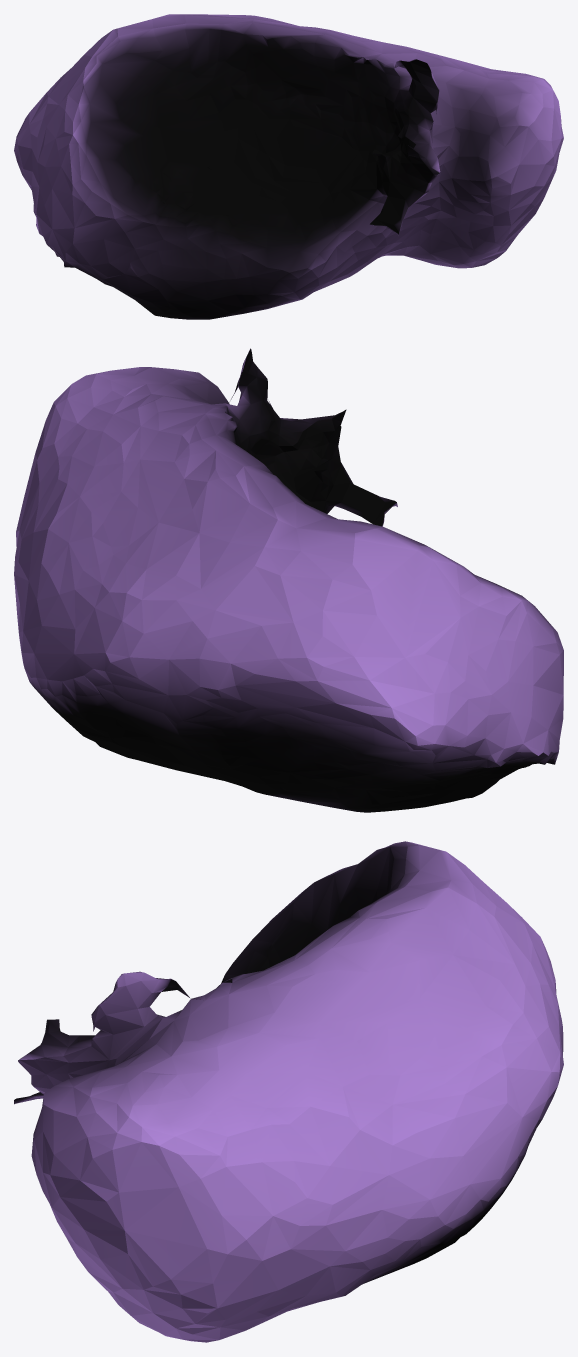
The model's file is Geometry4_lao.dae.
3 renders of one model, top to bottom at view 1: azimuth 30°, elevation 25°; view 2: azimuth 150°, elevation 25°; view 3: azimuth 270°, elevation 25°, orthographic. The views are drawn at different scales.
Visible parts, largest first — view 1: node; view 2: node; view 3: node.
Boxes of the visible parts, x1,y1,x2,y2 form: node: (14,14,563,319); node: (14,348,563,812); node: (14,841,563,1342).
Bounding box in the file's own units: 42.17 × 23.04 × 33.88.
